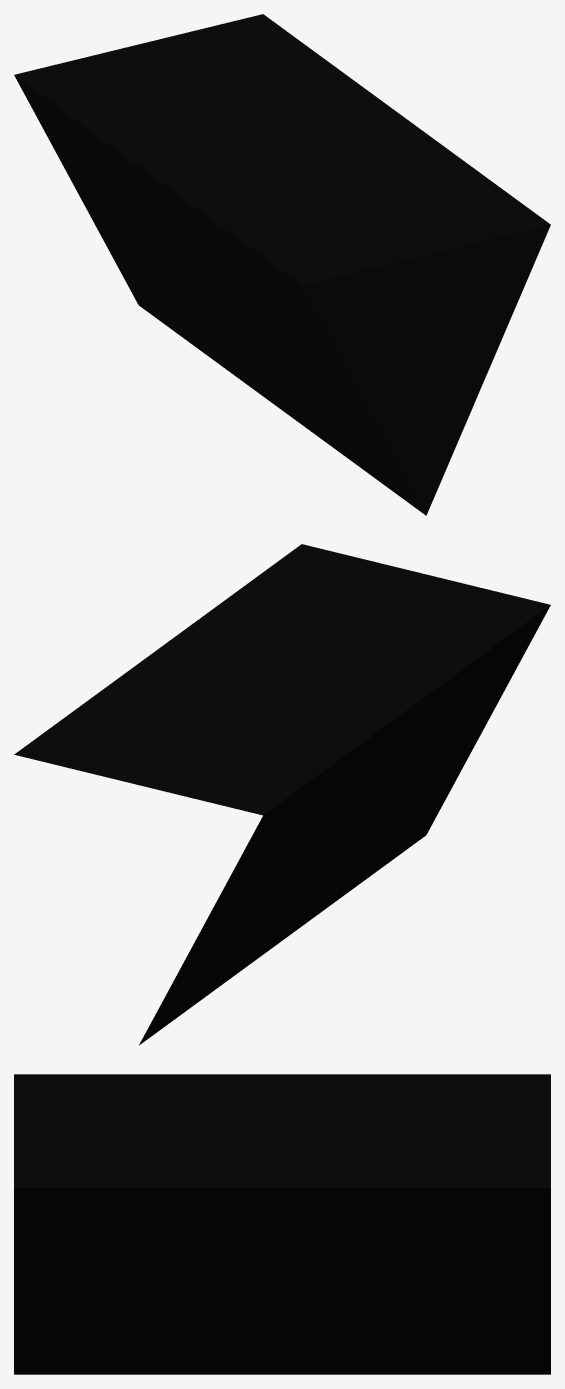
File: PoseBox01.glb
The picture shows the model from 3 angles, top to bottom: view 1: azimuth 30°, elevation 25°; view 2: azimuth 150°, elevation 25°; view 3: azimuth 270°, elevation 25°; orthographic projection. The views are drawn at different scales.
Visible parts, largest first — view 1: model_PoseBox01; view 2: model_PoseBox01; view 3: model_PoseBox01.
Part boxes in pixels (x1,y1,x2,y2): model_PoseBox01: (14,14,550,515); model_PoseBox01: (14,544,550,1045); model_PoseBox01: (14,1074,550,1374).
Size of the model in its own units: 1 by 1 by 2.
1 material, 1 textured.
